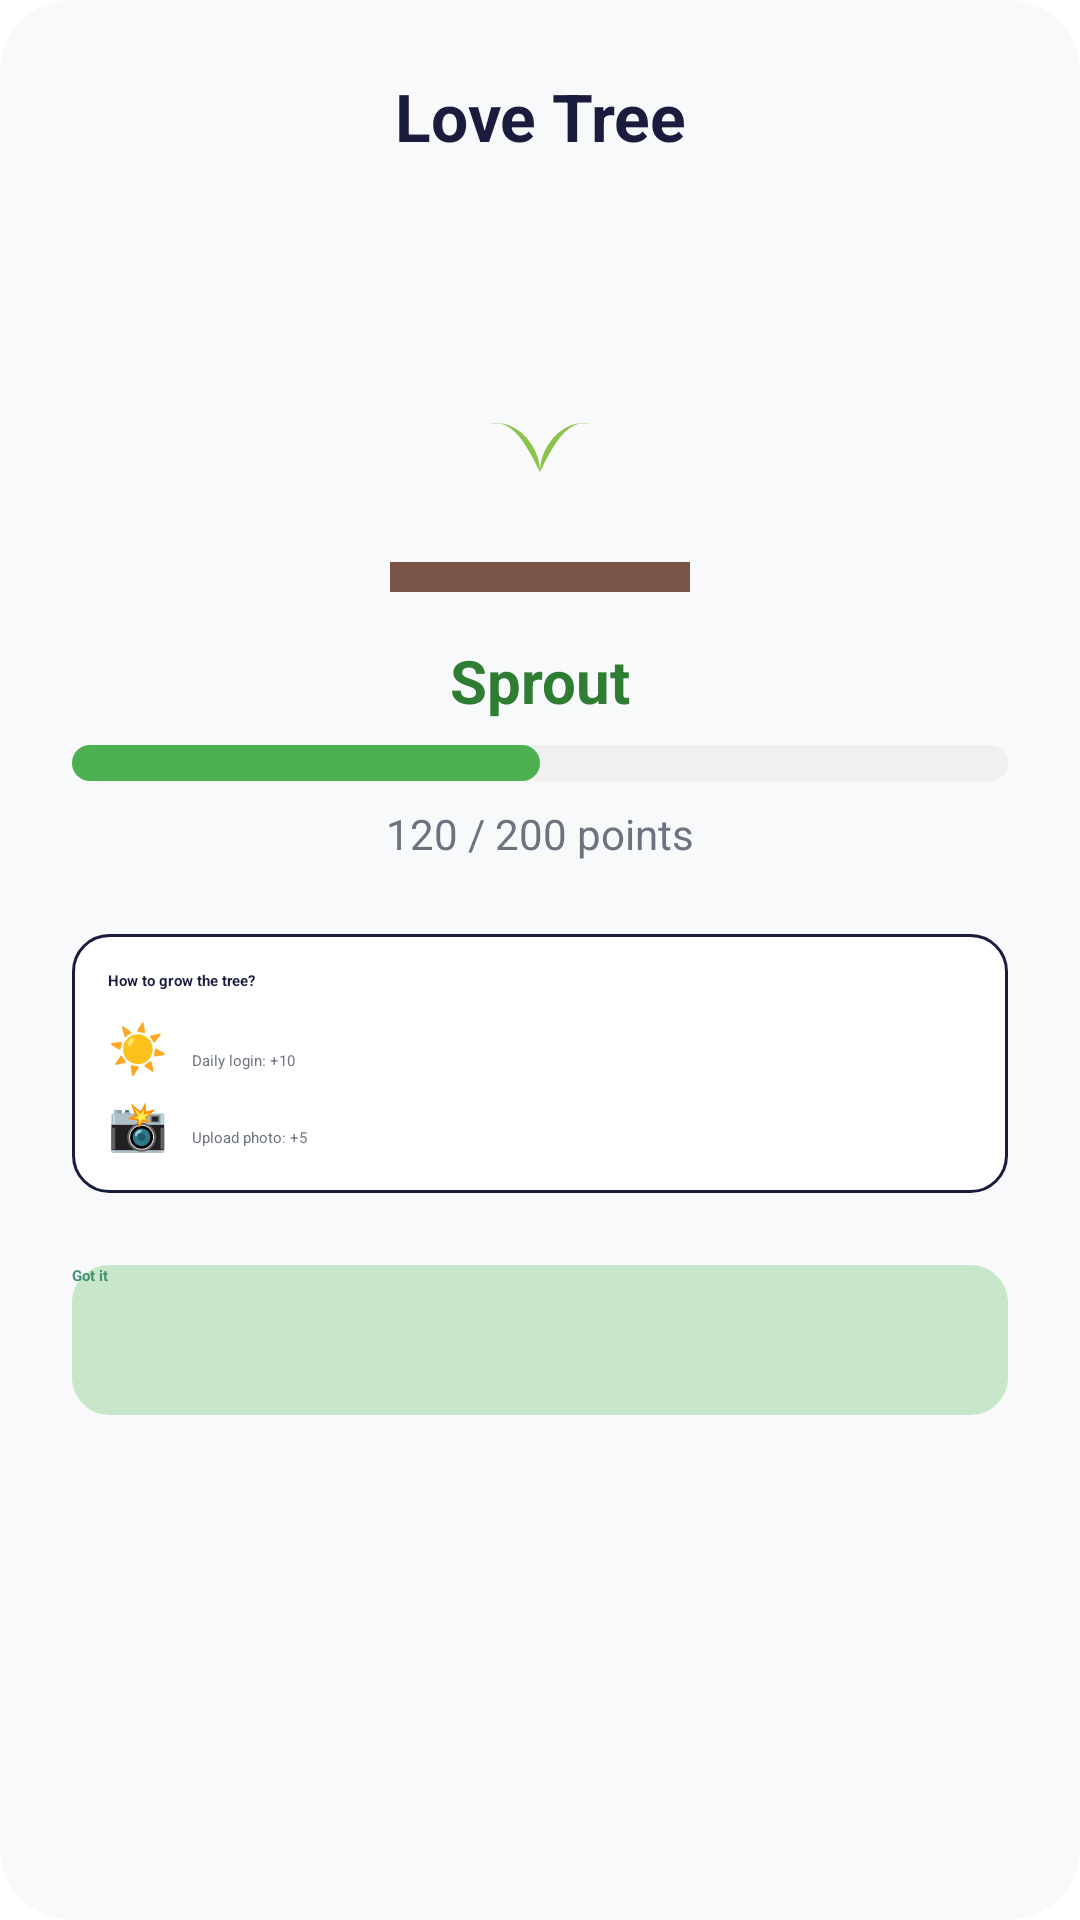

Point at icon controls on the screen. Image size 1080w x 1920h, points as (x=x, y=y).
tree stage: (x=540, y=507)
